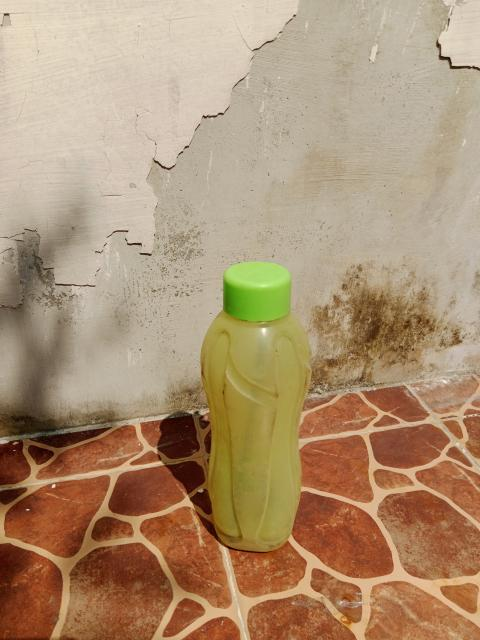botol: (184, 255, 324, 572)
